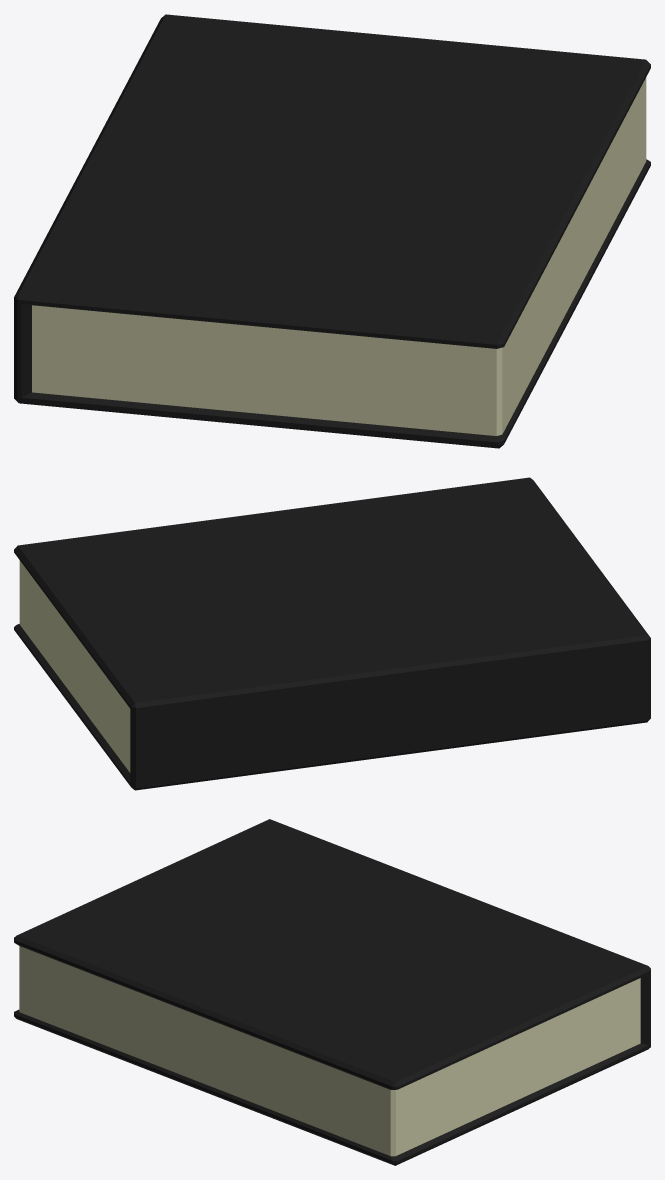
The model's file is BOOK_12.fbx.
3 views of the same model, one above another, from view 1: azimuth 30°, elevation 25°; view 2: azimuth 150°, elevation 25°; view 3: azimuth 270°, elevation 25° (orthographic). The views are drawn at different scales.
Visible parts, largest first — view 1: BOOK_12; view 2: BOOK_12; view 3: BOOK_12.
Boxes of the visible parts, box(x1,y1,x2,y2) form: BOOK_12: box(14, 14, 650, 448); BOOK_12: box(14, 477, 650, 790); BOOK_12: box(14, 819, 650, 1165).
Bounding box in the file's own units: 15.22 × 2.23 × 15.42.
